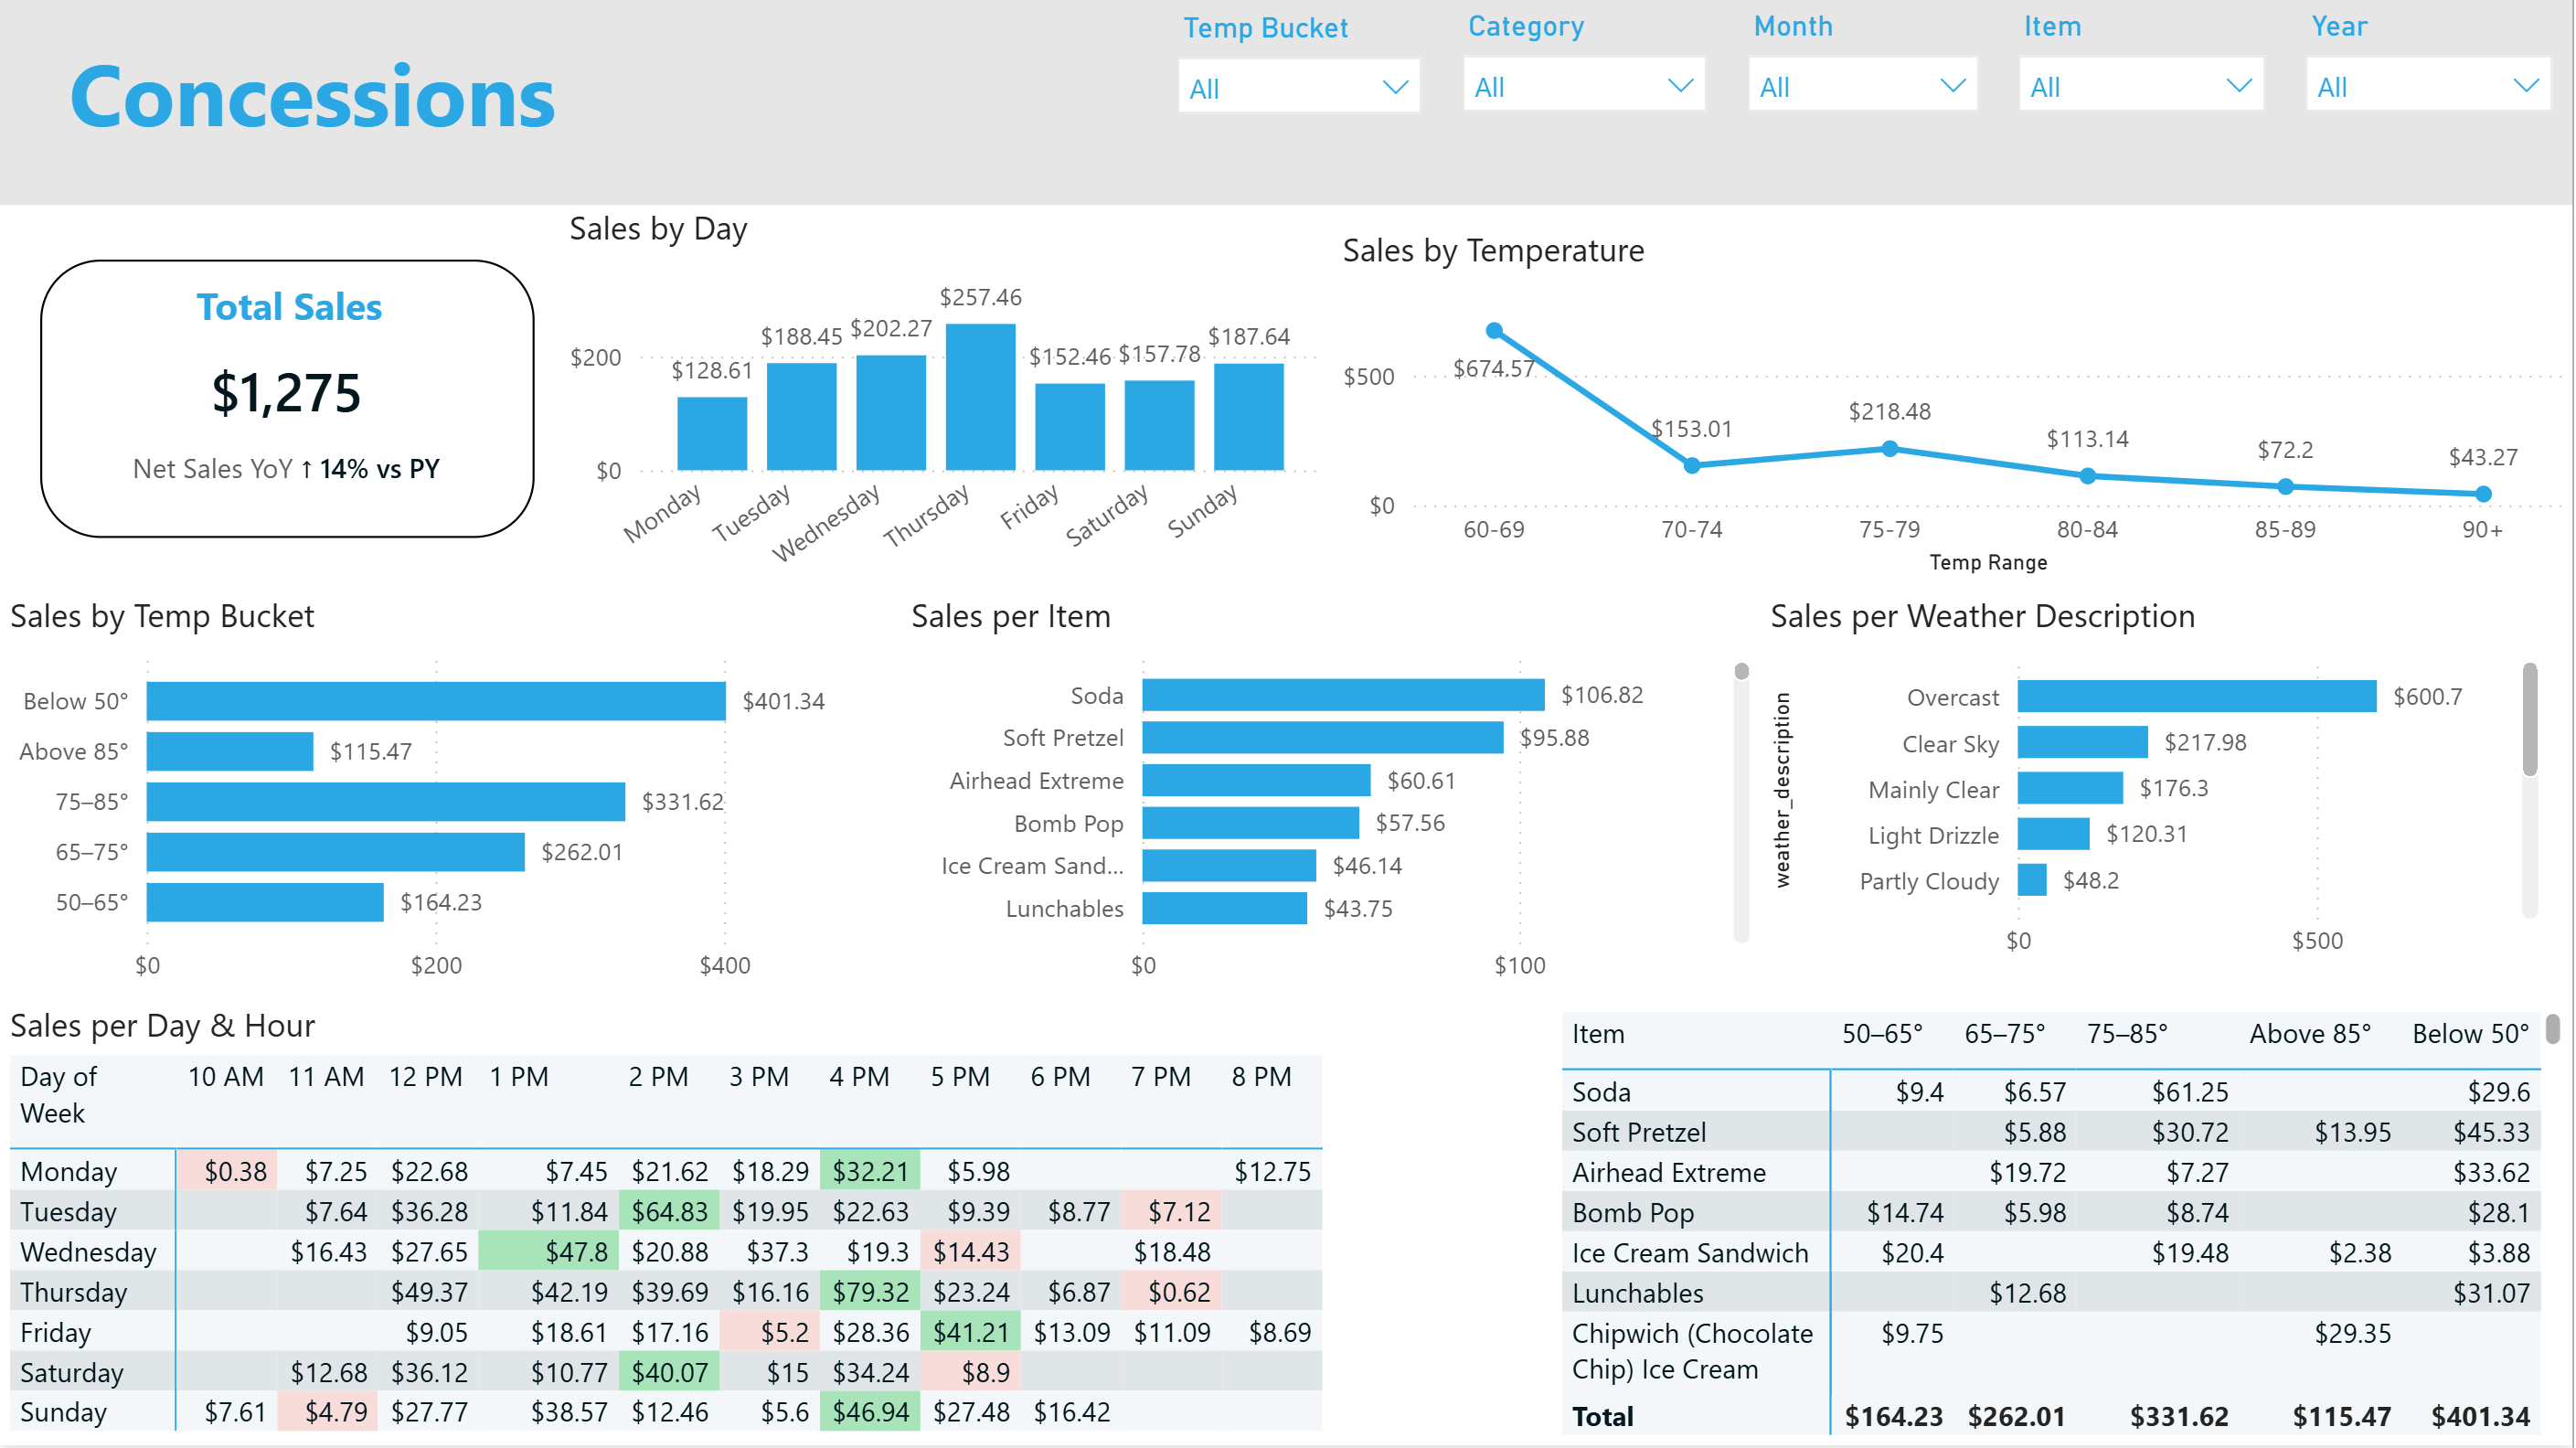

This screenshot's page, from the dashboard's own definition file:
{"tool":"powerbi","page":{"name":"Concessions","canvas":[1280,720],"ordinal":1},"visuals":[{"type":"shape","box":[0,0,1280,102.9],"z":0},{"type":"textbox","box":[0,12.7,311.1,76.5],"z":1000},{"type":"slicer","fields":{"Values":["public date_table.year"]},"box":[1137.2,0,142.8,103.3],"z":2000},{"type":"slicer","fields":{"Values":["public date_table.month_name"]},"box":[859.3,0,135.1,103.3],"z":3000},{"type":"pivotTable","fields":{"Columns":["public weather.Temp Bucket"],"Rows":["public snack_shack_sales.item"],"Values":["Sum(public snack_shack_sales.net_sales)"]},"box":[772.6,499.8,507.4,220.6],"z":5000},{"type":"cardVisual","title":"Total Sales","fields":{"Data":["_Measures.Net Sales Display"]},"box":[19.8,130.2,246,138.3],"z":6000},{"type":"barChart","title":"Sales by Temp Bucket","fields":{"Category":["public weather.Temp Bucket"],"Y":["Sum(public snack_shack_sales.net_sales)"]},"box":[0,295.5,450.1,203.6],"z":7000},{"type":"barChart","title":"Sales per Item","fields":{"Category":["public snack_shack_sales.item"],"Y":["Sum(public snack_shack_sales.net_sales)"]},"box":[448.6,295.5,427.2,203.6],"z":8000},{"type":"barChart","title":"Sales per Weather Description","fields":{"Category":["public weather.weather_description"],"Y":["Sum(public snack_shack_sales.net_sales)"]},"box":[875.8,295.5,392,191.4],"z":9000},{"type":"lineChart","title":"Sales by Temperature","fields":{"Category":["public weather.Temp Range"],"Y":["Sum(public snack_shack_sales.net_sales)"]},"box":[663,113.3,617,177.6],"z":10000},{"type":"slicer","fields":{"Values":["public snack_shack_sales.item"]},"box":[994.4,0,142.8,102],"z":11000},{"type":"slicer","fields":{"Values":["public snack_shack_sales.category"]},"box":[717.8,0,141.5,102],"z":12000},{"type":"columnChart","title":"Sales by Day","fields":{"Category":["public date_table.day_of_week"],"Y":["Sum(public snack_shack_sales.net_sales)"]},"box":[278.3,103.2,384.2,192.1],"z":13000},{"type":"slicer","fields":{"Values":["public weather.Temp Bucket"]},"box":[576.3,1.3,141.5,102],"z":14000},{"type":"pivotTable","title":"Sales per Day & Hour","fields":{"Columns":["Hour_Table.hour_12hr"],"Rows":["public date_table.day_of_week"],"Values":["Sum(public snack_shack_sales.net_sales)"]},"box":[0,499.8,772.6,220.6],"z":15000}]}

Visuals, with their boxes in screenshot pixels (x1, y1, x2, y2), scaled from the page's 1280x720 canvas onto the 2576x1448 screenshot:
shape: [left=0, top=0, right=2575, bottom=207]
textbox: [left=0, top=26, right=626, bottom=179]
slicer - public date_table.year: [left=2289, top=0, right=2575, bottom=208]
slicer - public date_table.month_name: [left=1730, top=0, right=2001, bottom=208]
pivotTable - public weather.Temp Bucket x public snack_shack_sales.item: [left=1555, top=1006, right=2575, bottom=1447]
"Total Sales" cardVisual: [left=40, top=261, right=535, bottom=540]
"Sales by Temp Bucket" barChart: [left=0, top=594, right=906, bottom=1004]
"Sales per Item" barChart: [left=903, top=594, right=1762, bottom=1004]
"Sales per Weather Description" barChart: [left=1762, top=594, right=2551, bottom=979]
"Sales by Temperature" lineChart: [left=1335, top=228, right=2575, bottom=585]
slicer - public snack_shack_sales.item: [left=2001, top=0, right=2289, bottom=205]
slicer - public snack_shack_sales.category: [left=1444, top=0, right=1730, bottom=205]
"Sales by Day" columnChart: [left=560, top=208, right=1334, bottom=594]
slicer - public weather.Temp Bucket: [left=1160, top=3, right=1444, bottom=208]
"Sales per Day & Hour" pivotTable: [left=0, top=1006, right=1555, bottom=1447]
